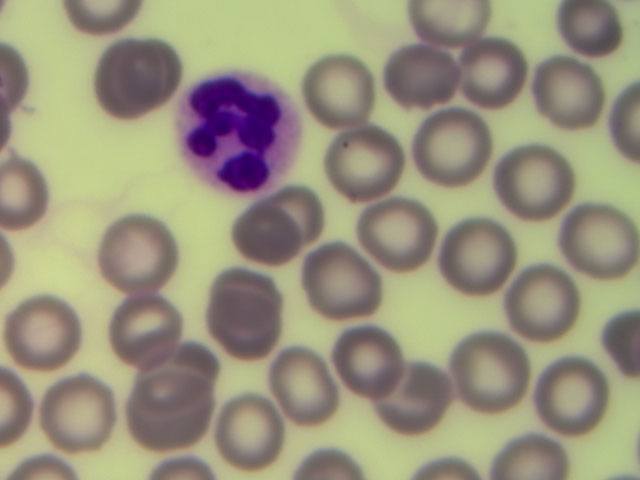RBC: (97, 37, 173, 116), (98, 216, 174, 295), (106, 288, 182, 367), (12, 294, 88, 373), (125, 369, 201, 448), (39, 373, 115, 452), (216, 392, 292, 471), (266, 346, 342, 425), (205, 286, 281, 365), (205, 254, 281, 333), (238, 193, 314, 272), (266, 175, 342, 254), (333, 124, 409, 203), (306, 55, 382, 134), (380, 37, 456, 116), (467, 34, 543, 113), (528, 53, 604, 132), (422, 109, 498, 188), (500, 141, 576, 220), (564, 203, 640, 282), (449, 219, 525, 298), (365, 196, 441, 275), (499, 260, 575, 339), (316, 244, 392, 323), (329, 322, 405, 401), (376, 360, 452, 439), (460, 335, 536, 414), (528, 354, 604, 433), (406, 1, 497, 47), (544, 1, 635, 47)
WBC: (174, 67, 304, 197)
